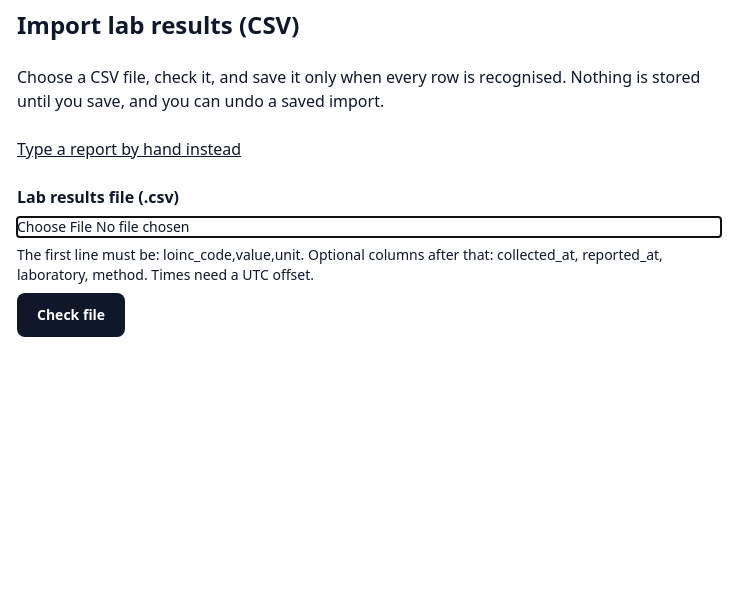
Test case: choosing another file clears the old preview so it cannot be saved unseen
Earlier steps of the test are not shown.
Click the button "Check file".
click(71, 315)  # box [17, 293, 125, 337]
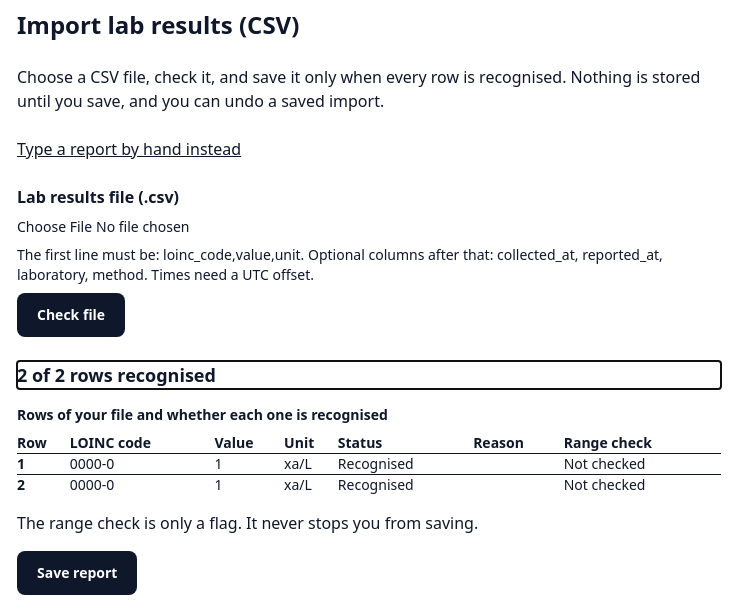
expect the button "Save report" is enabled: met, box [17, 551, 137, 595]
